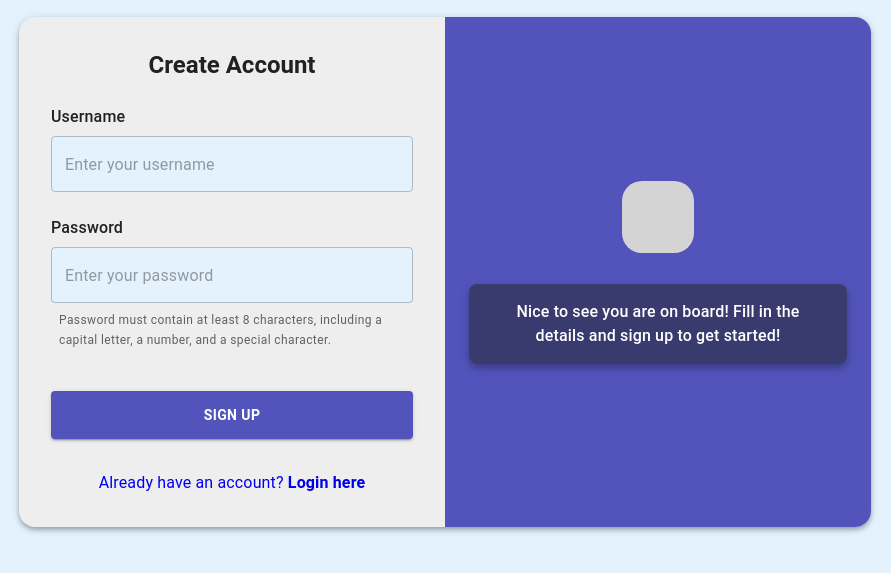
Test: AddUser component › should show username error when username is already taken
Type "existingUser" into the field labelled "Username".
click(232, 164); type("existingUser")  # box [51, 136, 413, 192]
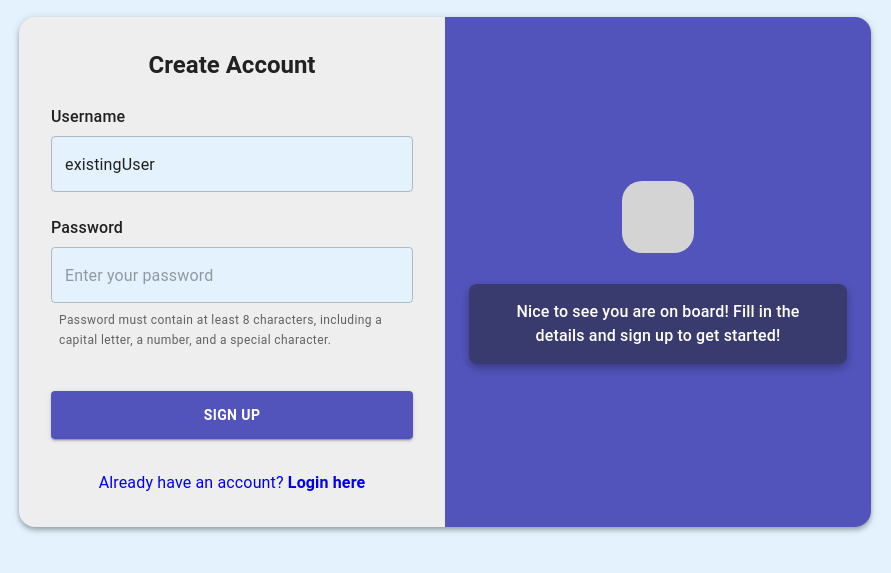
Type "Password123!" into the password field labelled "Password".
click(232, 275); type("Password123!")  # box [51, 247, 413, 303]
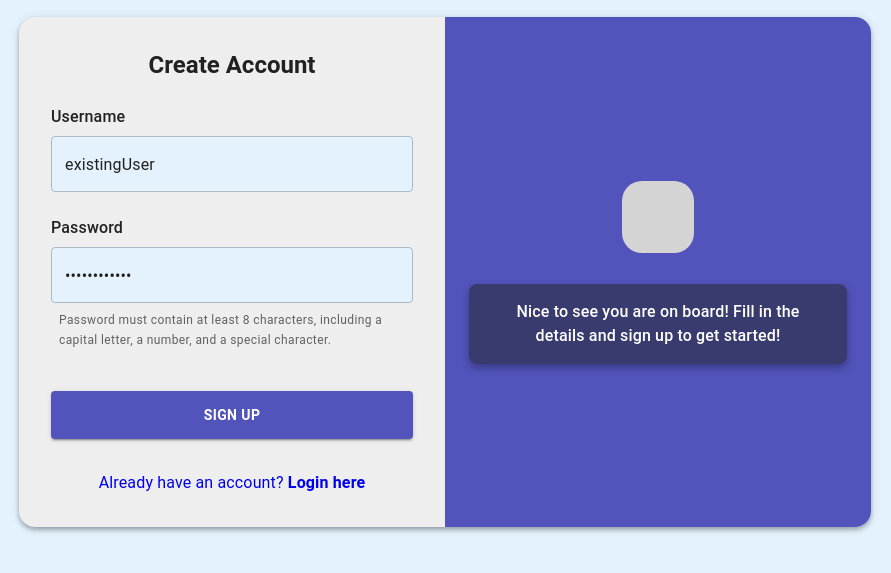
Click the button "Sign Up".
click(232, 415)  # box [51, 391, 413, 439]
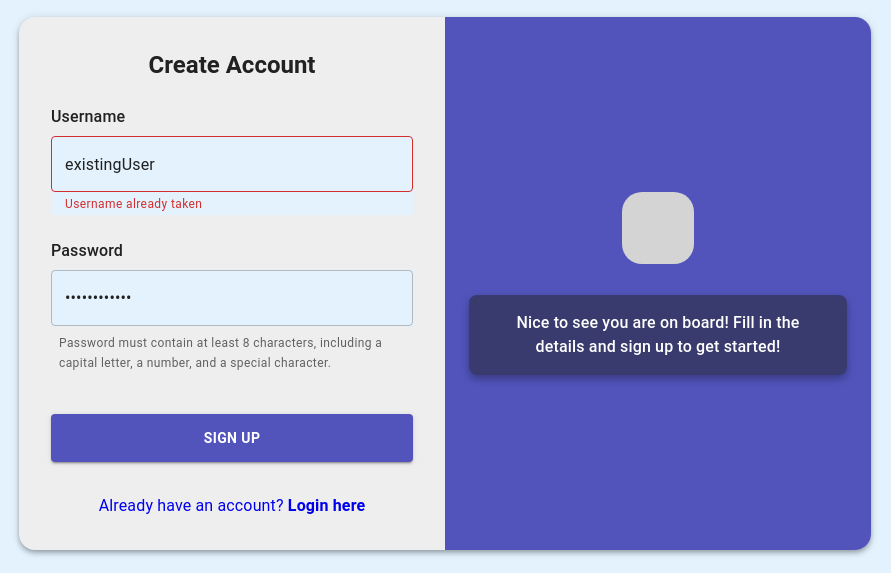
Check: the text "Username already taken" is shown, box [65, 197, 202, 211]
